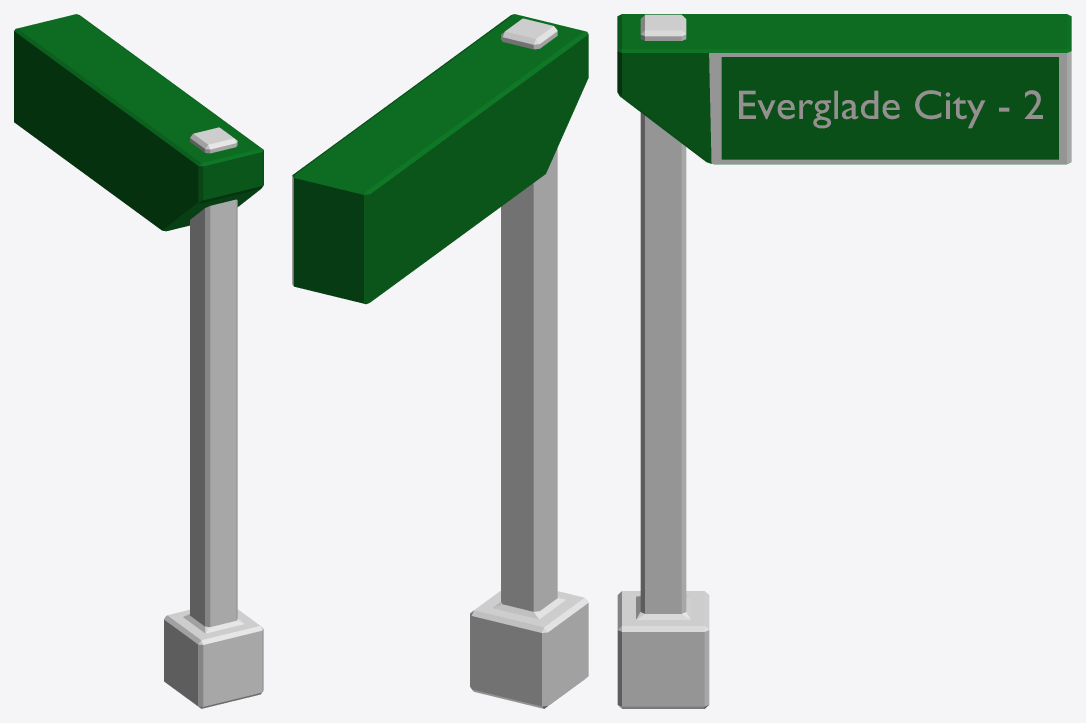
The model's file is small_sign_1.fbx.
3 renders of one model, left to right at view 1: azimuth 30°, elevation 25°; view 2: azimuth 150°, elevation 25°; view 3: azimuth 270°, elevation 25°, orthographic. The views are drawn at different scales.
Parts seen in each view (by area): view 1: Cube.001, Cube; view 2: Cube.001, Cube; view 3: Cube.001, Cube, Text.
Part boxes in pixels (box(x1,y1,x2,y2)): Cube.001: box(14, 14, 263, 231); Cube: box(164, 127, 263, 708); Cube.001: box(292, 14, 588, 304); Cube: box(470, 18, 588, 708); Cube.001: box(617, 14, 1071, 164); Cube: box(617, 14, 709, 708); Text: box(739, 90, 1042, 128).
Size of the model in its own units: 6.17 by 48.28 by 29.71.
